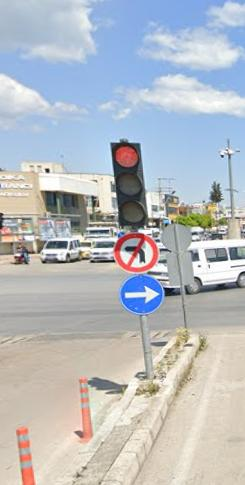leftturnsareforbidden: (114, 232, 158, 272)
redlight: (111, 141, 143, 224)
turnright: (121, 275, 163, 313)
